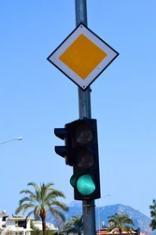green_light: (70, 119, 101, 200)
